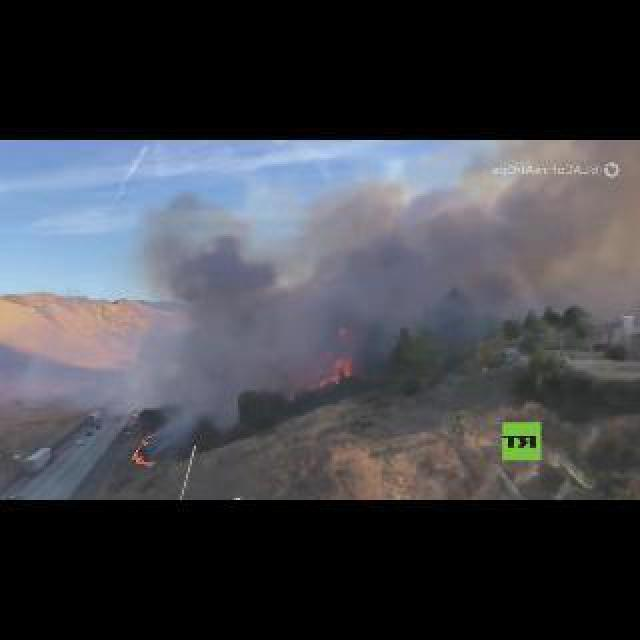Fire: (316, 356, 356, 388), (132, 432, 160, 466)
Smoke: (134, 146, 633, 384)
